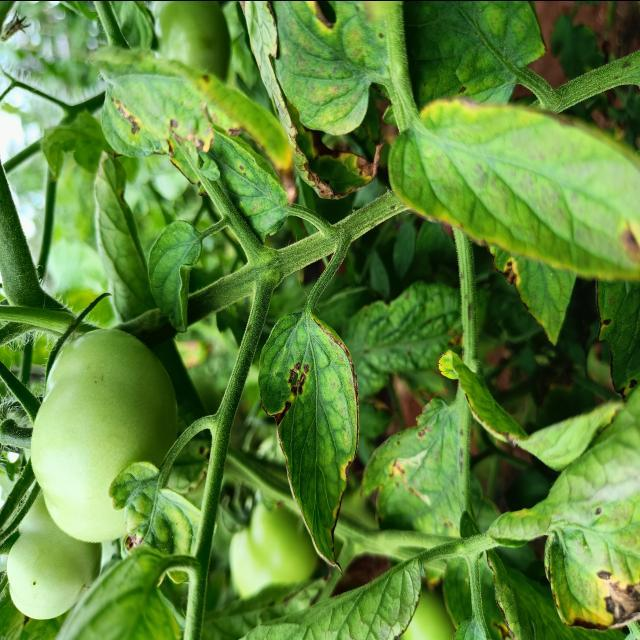Tomato mosaic virus leaf: (254, 306, 362, 576), (542, 491, 640, 633), (485, 240, 577, 352), (289, 130, 387, 206), (594, 274, 640, 404)
